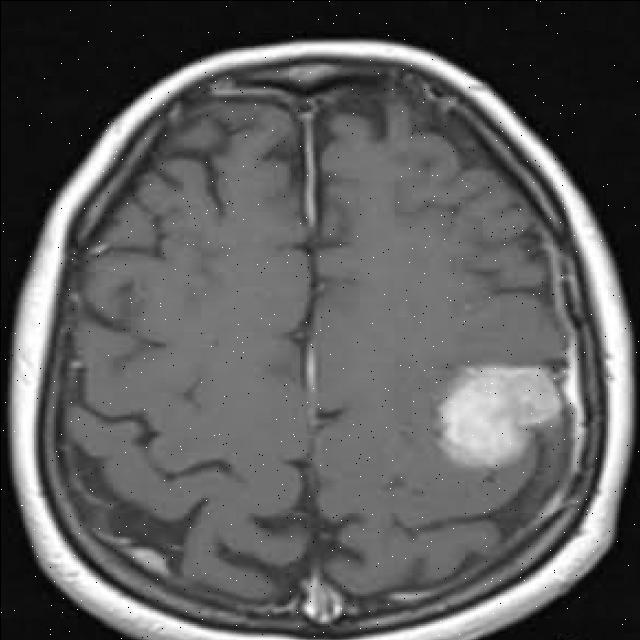Meningioma: (437, 365, 560, 469)
